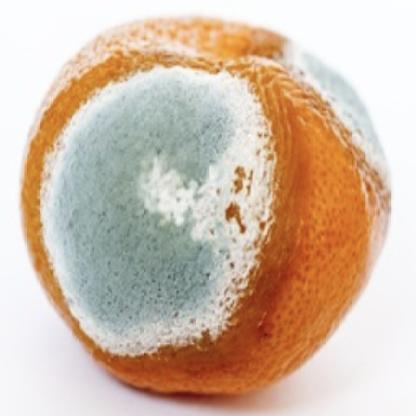rotten: (25, 17, 396, 385)
